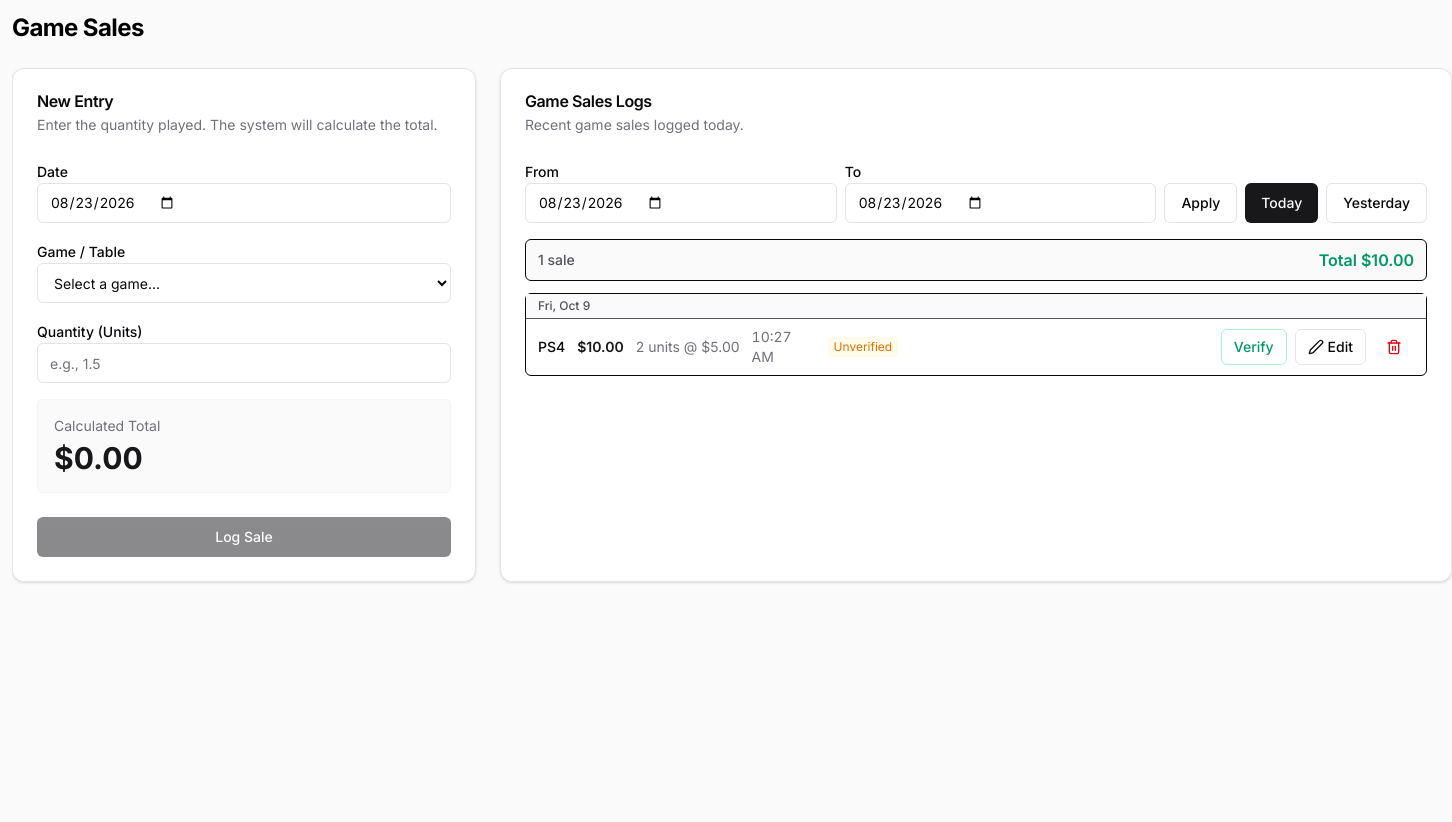
Scenario: GameSales › removes an updated sale from the active list when its persisted date falls outside the range
The image size is (1452, 822).
Check: the text "2 units @ $5.00" is shown, box x1=636 y1=337 x2=740 y2=357
Click the button "Edit". click: click(1330, 347)
box: x1=1295 y1=329 x2=1366 y2=365
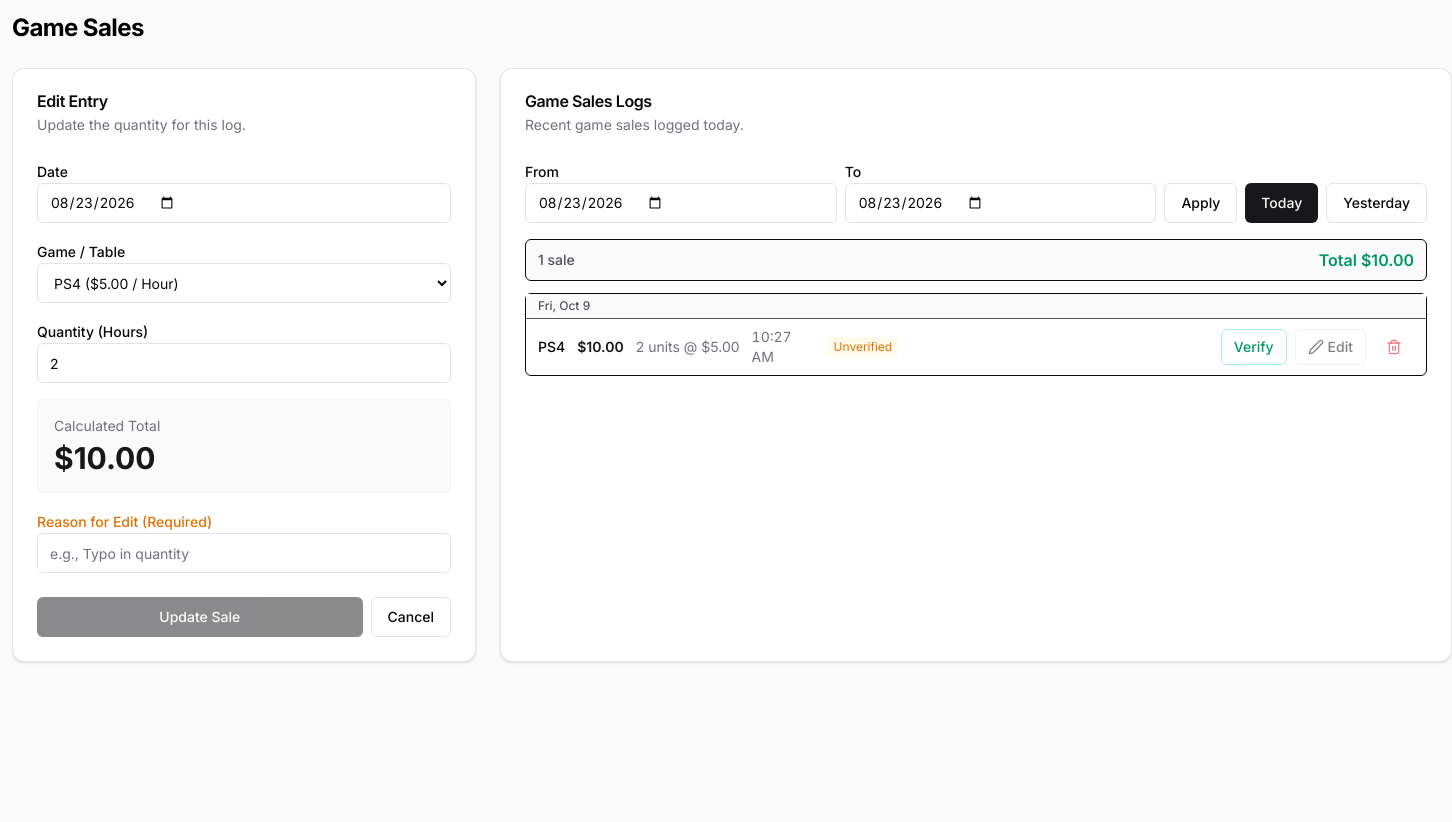
Type "Move to prior day" into the field labelled "Reason for Edit (Required)". click: (244, 553)
box: x1=37 y1=533 x2=451 y2=573
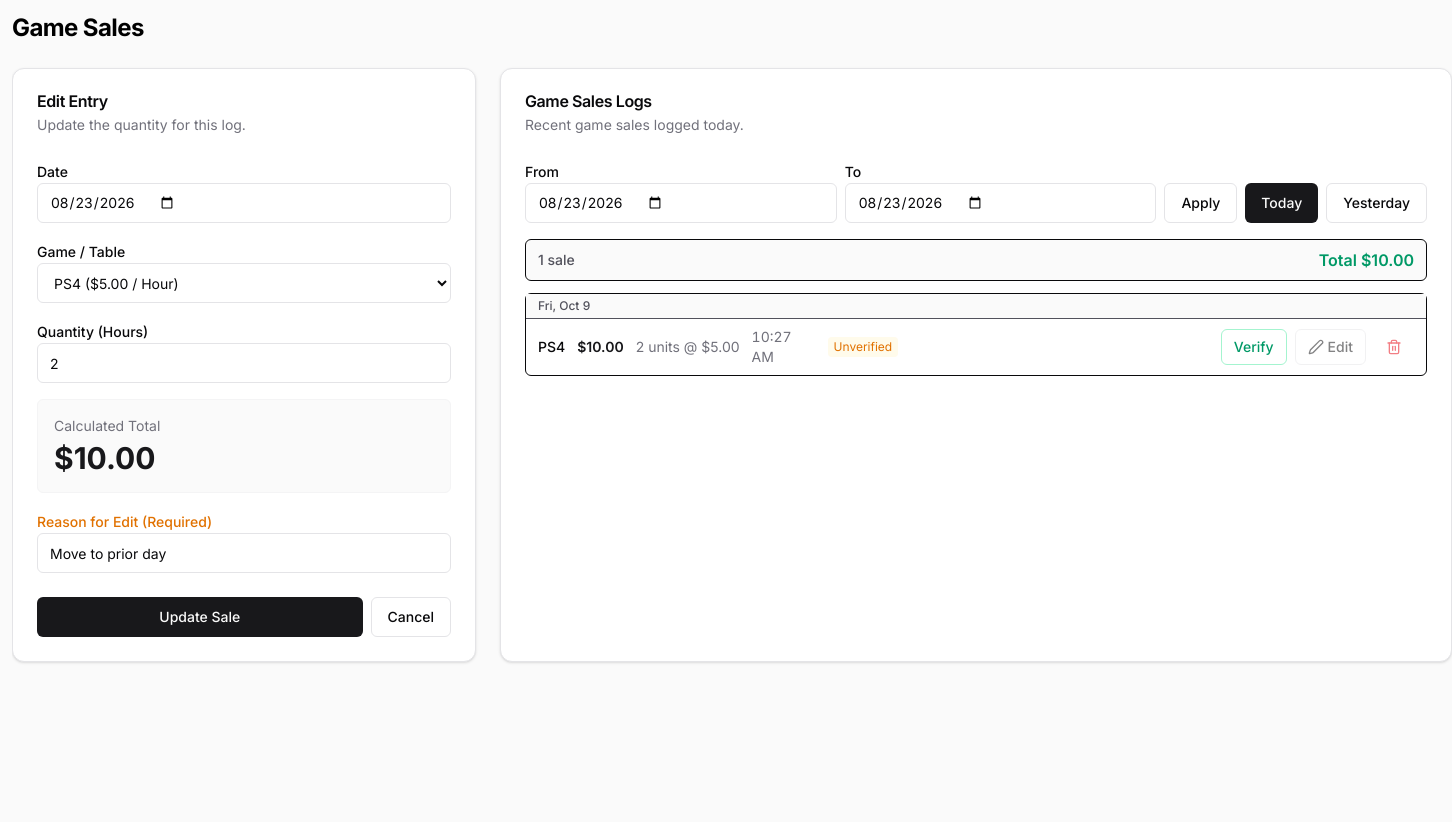
Replace the text in the number field labelled "Quantity (Hours)" with "3". click: (244, 363)
box: x1=37 y1=343 x2=451 y2=383
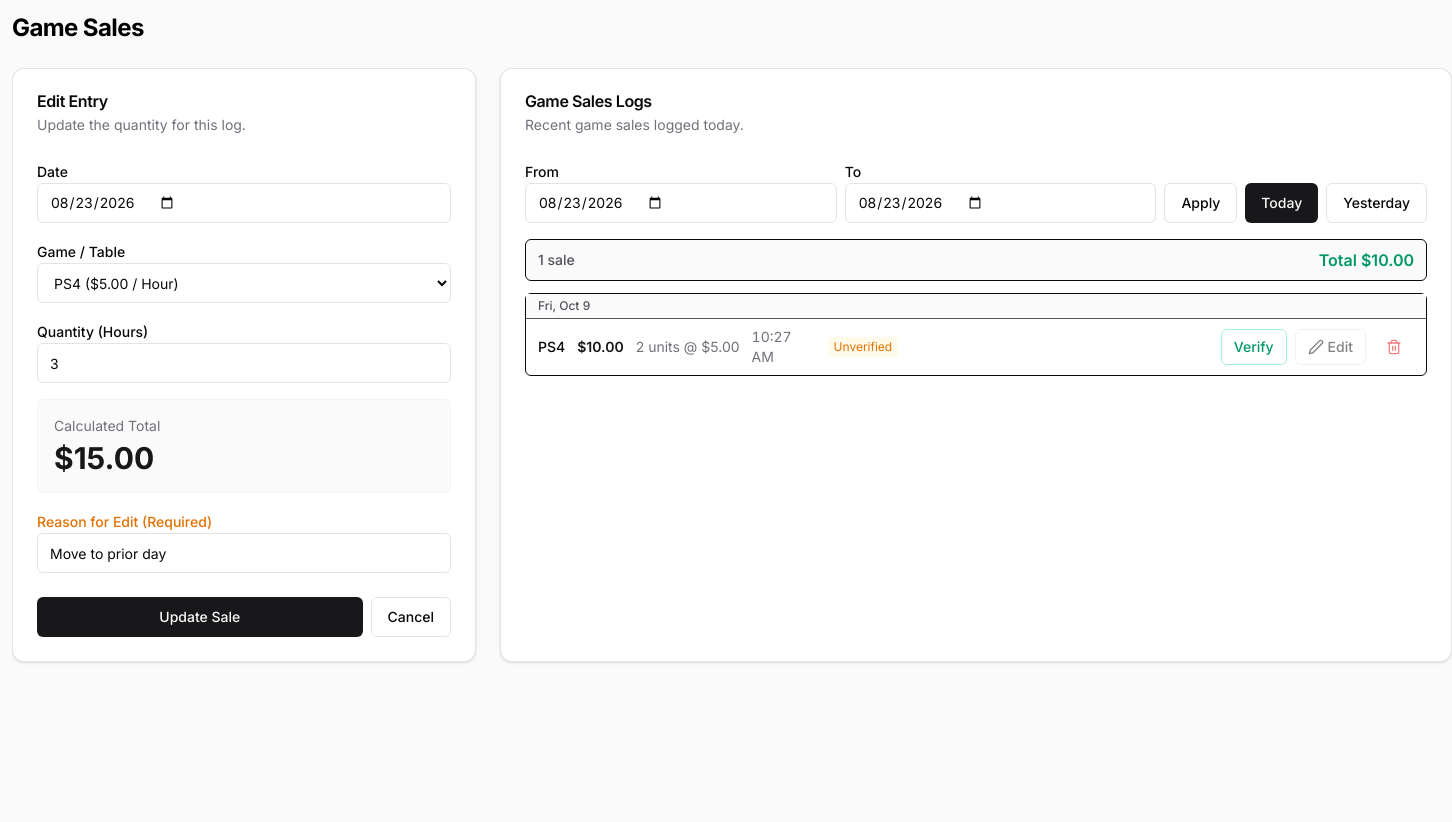
Submit the text "Update Sale", box x1=13 y1=69 x2=475 y2=661
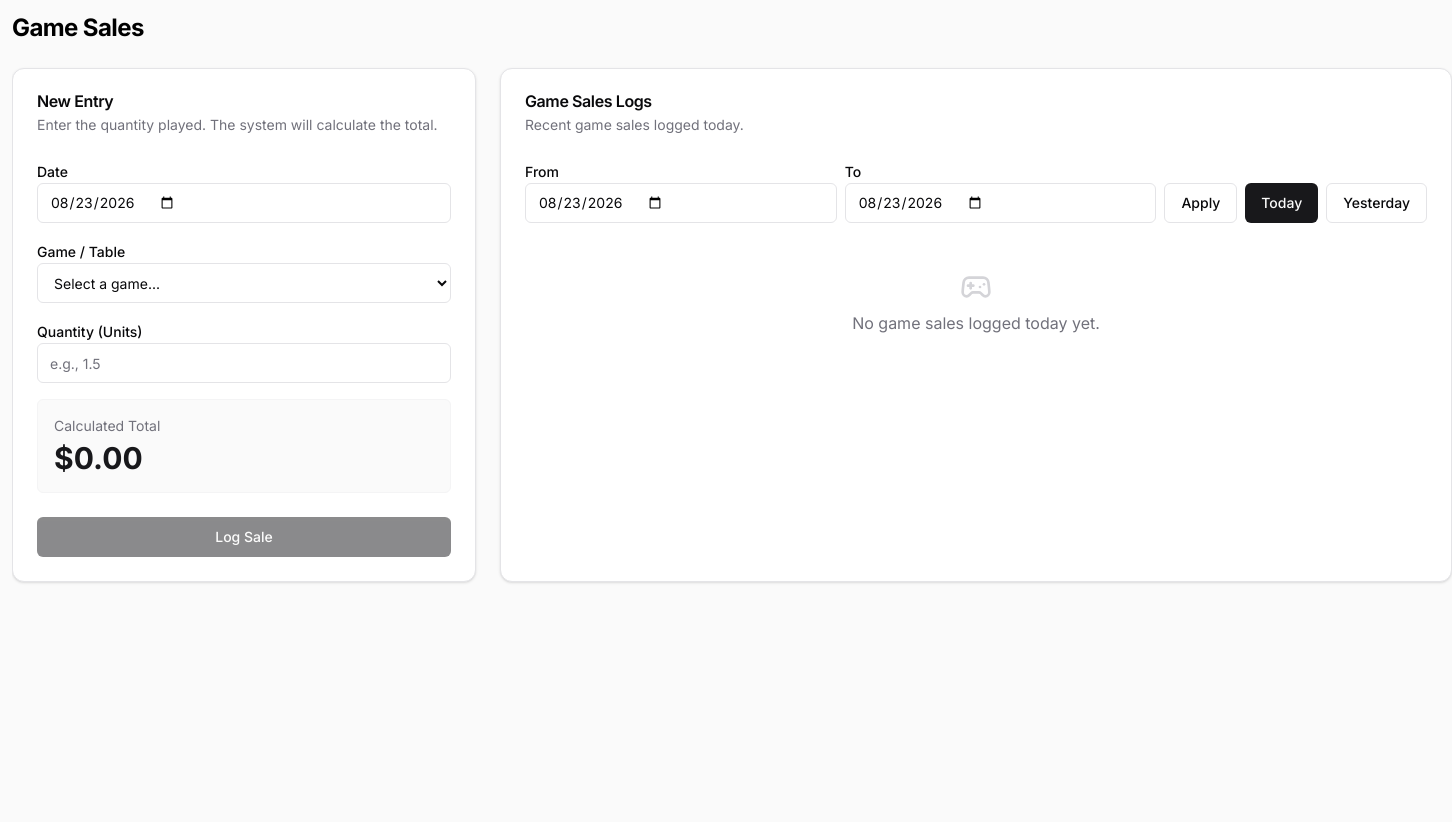
Check: the text "2 units @ $5.00" is gone
